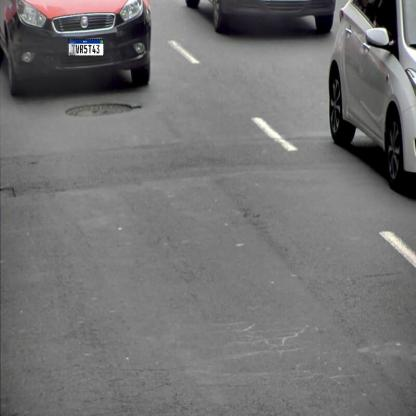PlacaM: (68, 39, 104, 56)
